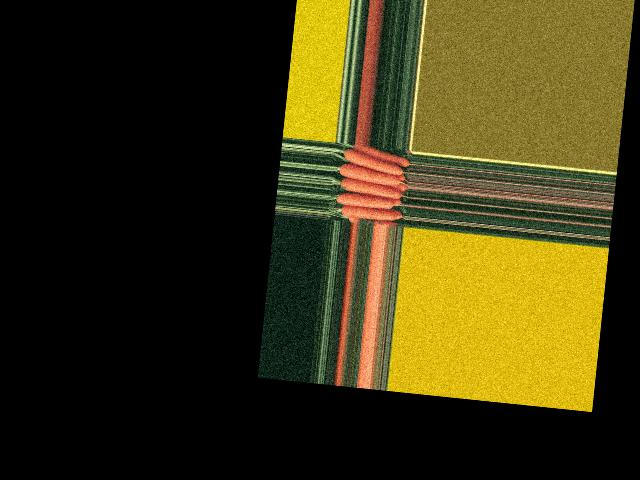carrot: (349, 143, 409, 168)
